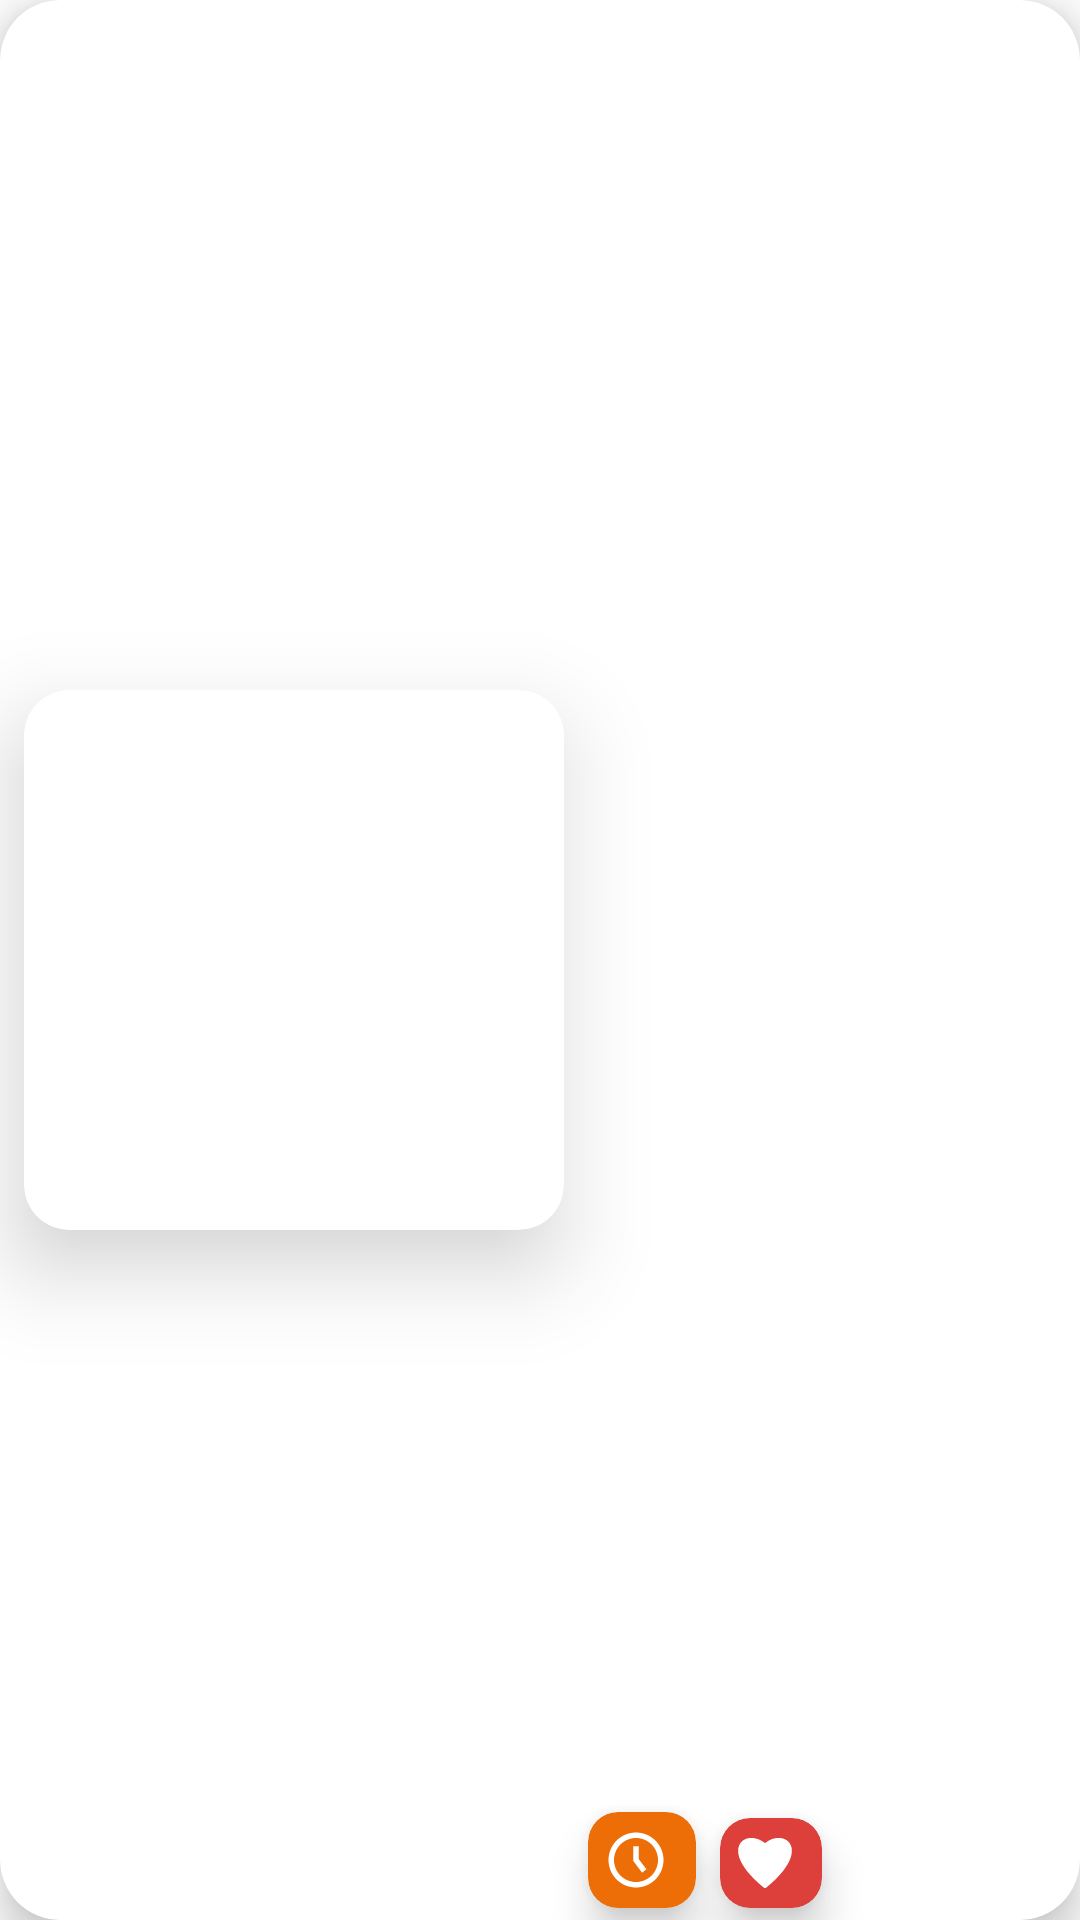

Screen size 1080w x 1920h. Icon name, then its box in pixels as (x1, y1, x2, y2):
love: (738, 1838, 792, 1888)
time: (608, 1832, 664, 1888)
